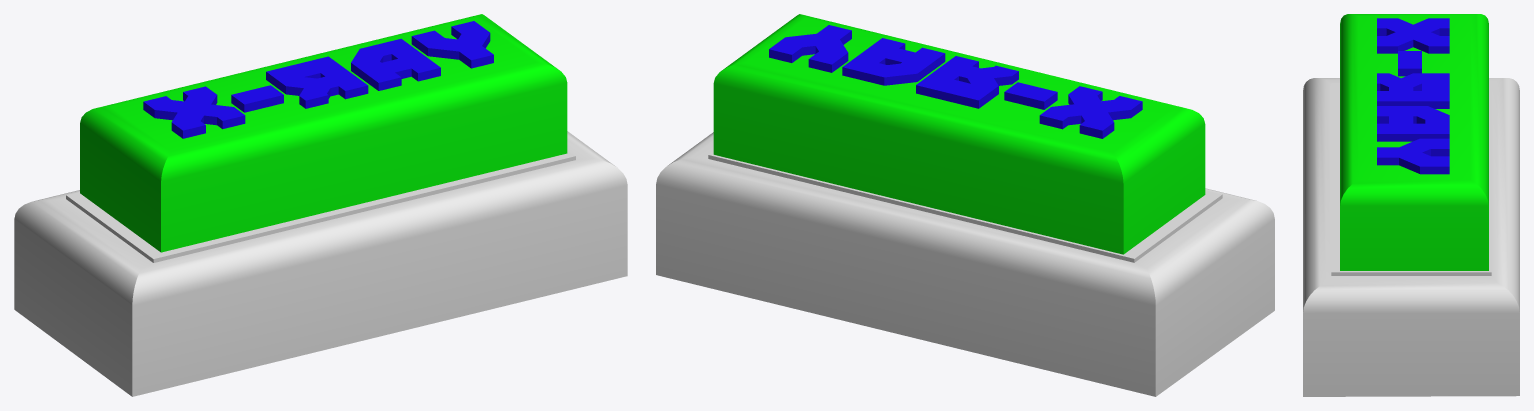
Rendered from button.fbx.
The picture shows the model from 3 angles, left to right: view 1: azimuth 30°, elevation 25°; view 2: azimuth 150°, elevation 25°; view 3: azimuth 270°, elevation 25°; orthographic projection. The views are drawn at different scales.
Parts seen in each view (by area): view 1: button, button_key; view 2: button, button_key; view 3: button, button_key.
Boxes of the visible parts, left/top/right/bottom form: button: left=14, top=131, right=627, bottom=396; button_key: left=80, top=14, right=567, bottom=252; button: left=656, top=132, right=1274, bottom=396; button_key: left=713, top=14, right=1205, bottom=254; button: left=1303, top=78, right=1519, bottom=396; button_key: left=1340, top=14, right=1488, bottom=270.
Bounding box in the file's own units: 90.11 × 37.33 × 37.19.
